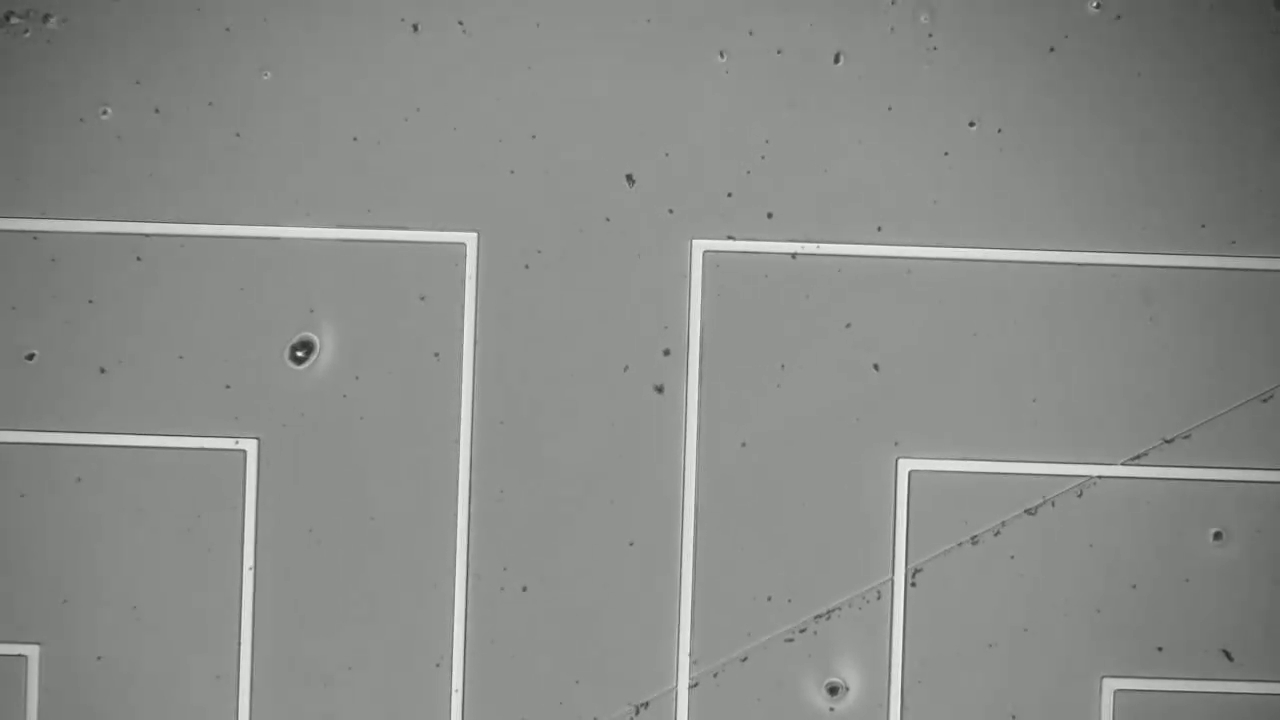scratch: (641, 378, 1280, 718)
